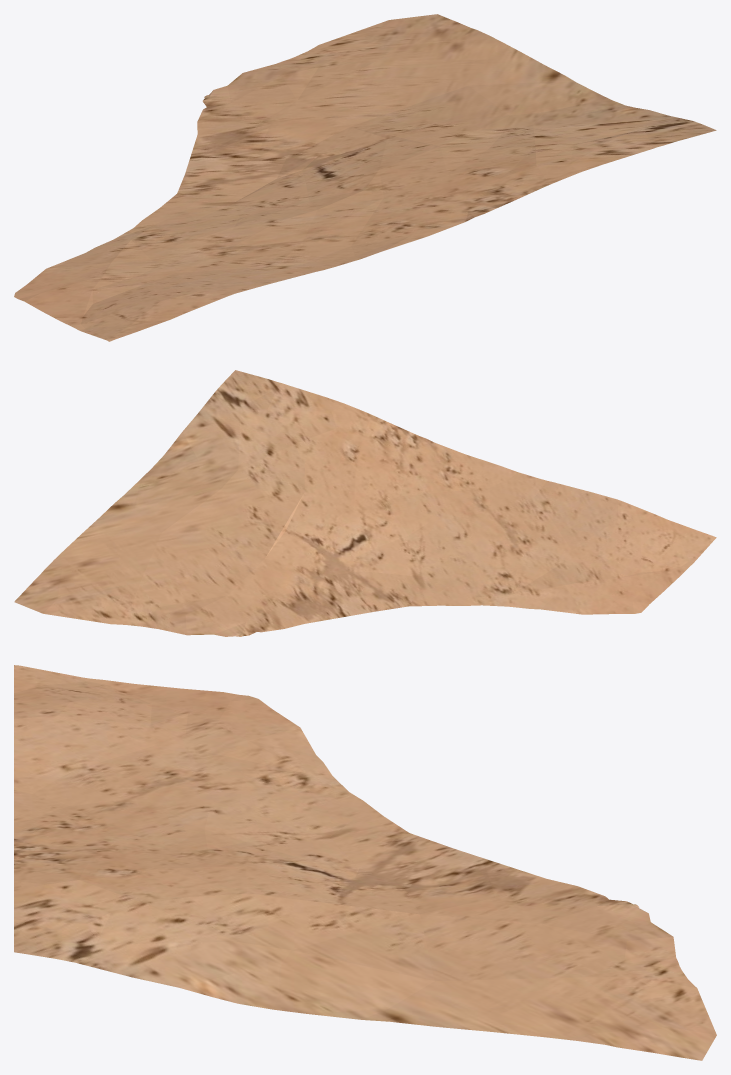
3 renders of one model, top to bottom at view 1: azimuth 30°, elevation 25°; view 2: azimuth 150°, elevation 25°; view 3: azimuth 270°, elevation 25°, orthographic. The views are drawn at different scales.
Bounding box in the file's own units: 2.09 × 0.2898 × 1.7.
2 materials, 2 textured.
